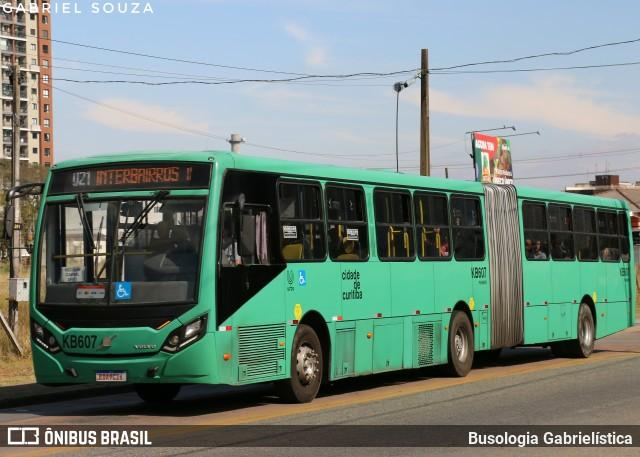INTERBAIRROS II: (92, 163, 196, 189)
